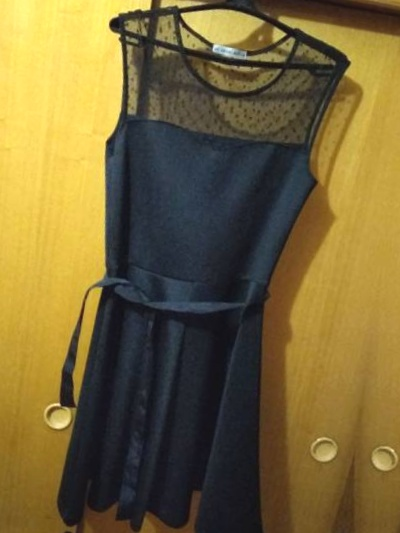Dress: (17, 0, 383, 533), (373, 38, 400, 533), (0, 529, 303, 533)
